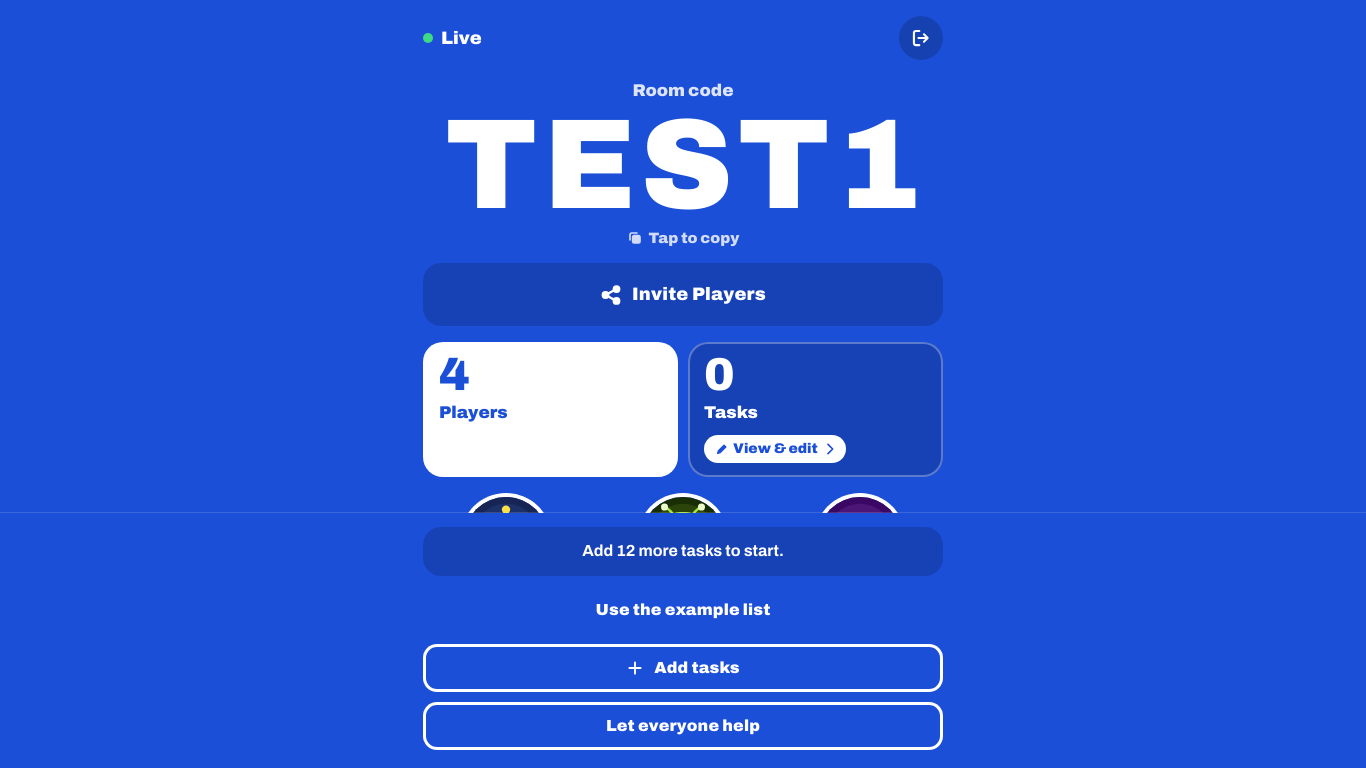
Test: PreGamePage › Host Controls › replaces tasks from lobby state without changing task-list ownership
Click the button "Tasks 0 View & edit" at (816, 410), box [688, 342, 943, 477]
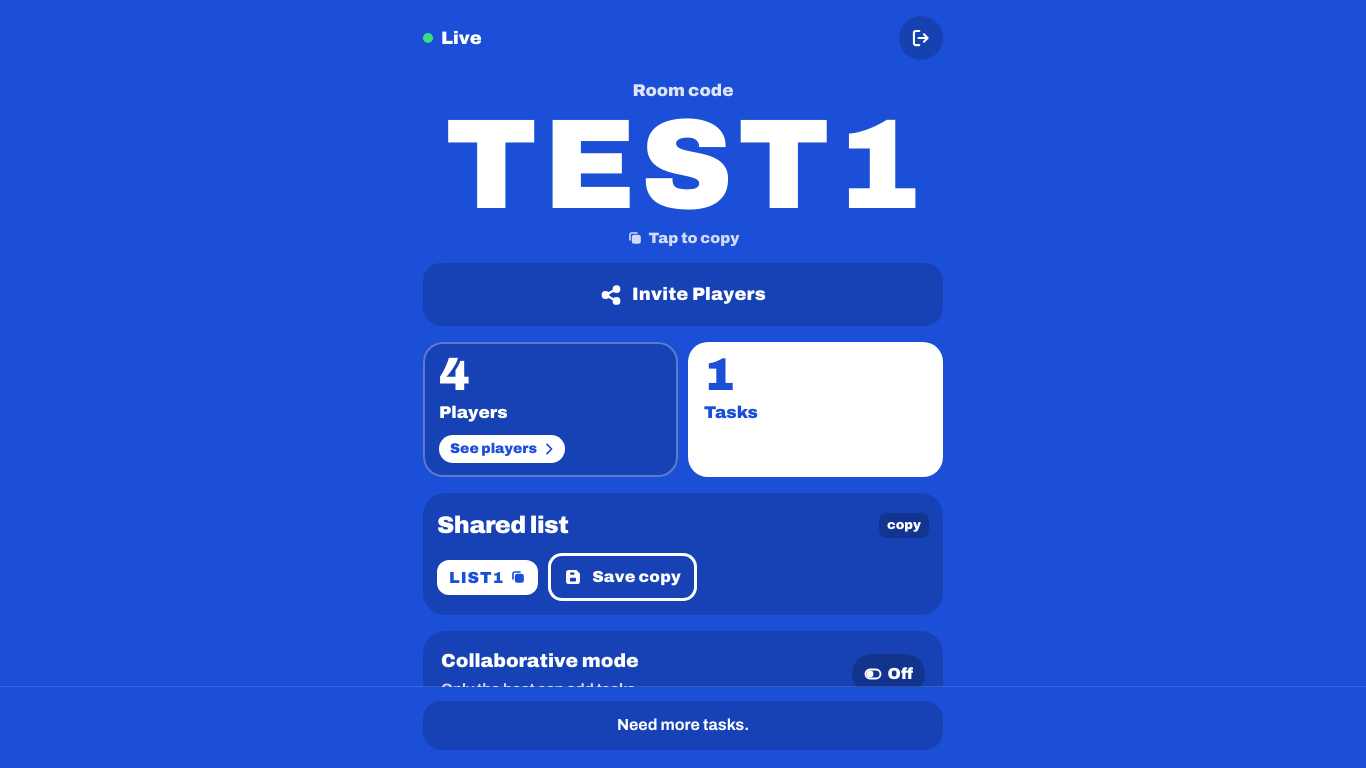
Now the text "copy" is shown, box [879, 513, 929, 538]
Now the button "Save copy" is shown, box [548, 553, 697, 601]
